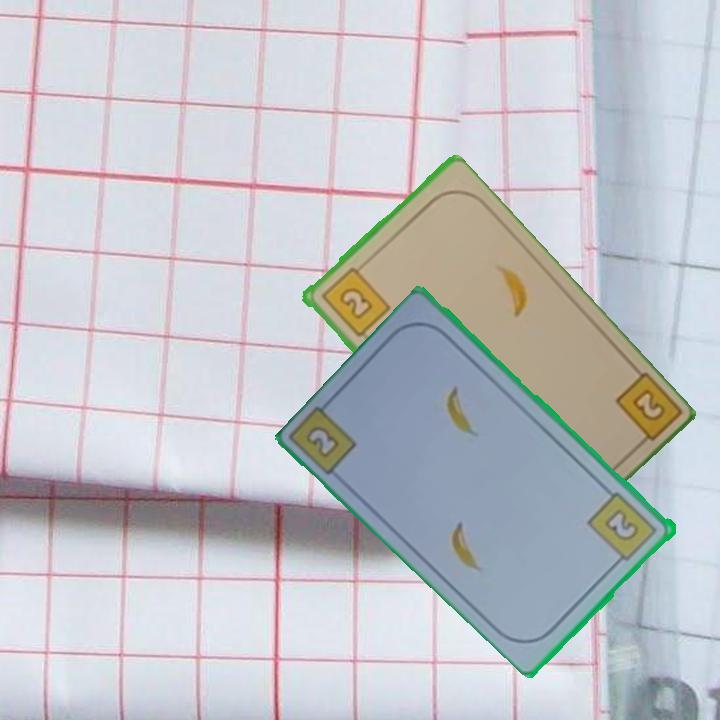2b: (584, 488, 661, 569), (317, 259, 393, 340), (611, 368, 681, 453), (305, 425, 340, 458)
